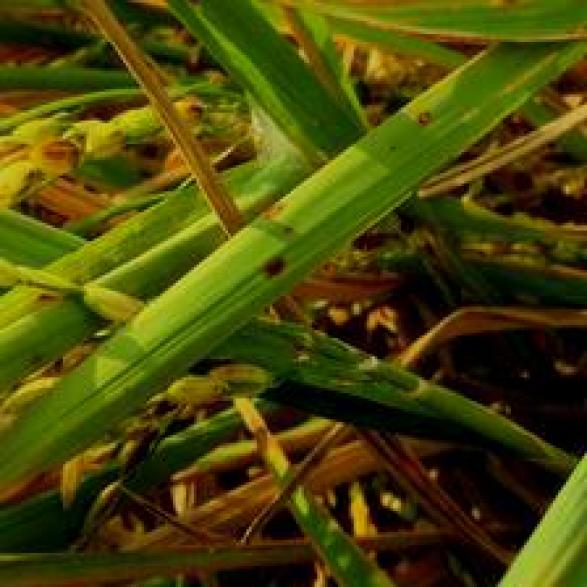Brown_Spot: (246, 244, 291, 280), (391, 105, 448, 128)
